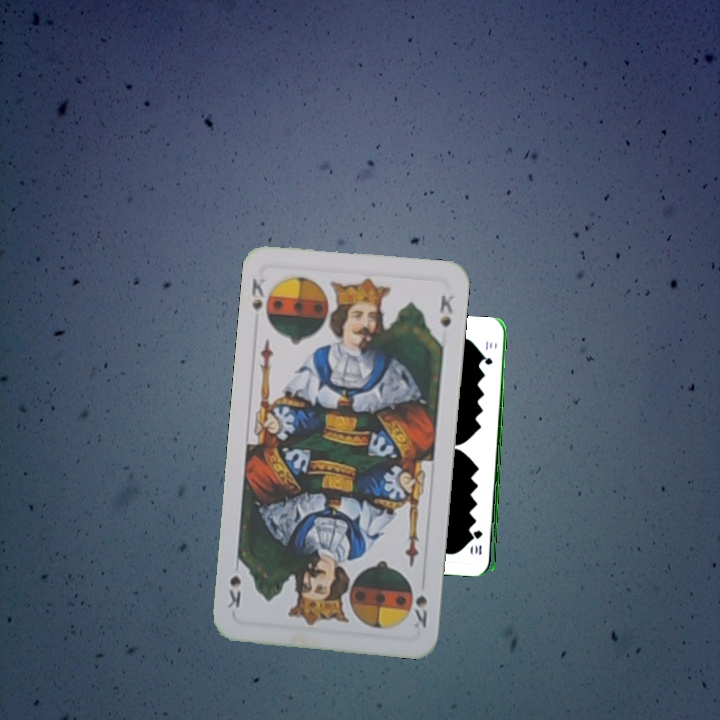G10: (471, 526, 485, 557)
SK: (247, 274, 268, 314), (410, 591, 430, 631)
